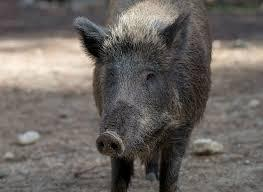wildboar: (70, 0, 213, 192)
